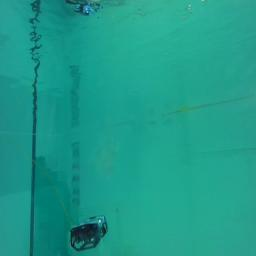Side: (69, 214, 108, 252)
